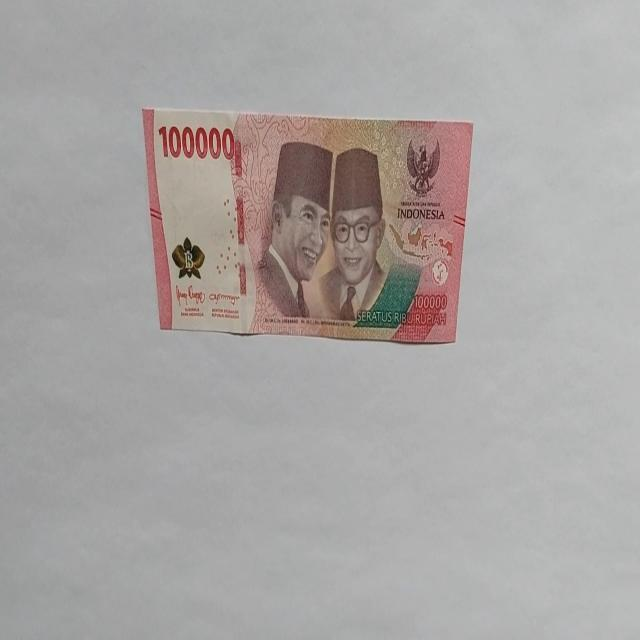seratus ribu rupiah: (142, 106, 474, 344), (248, 140, 334, 333)
